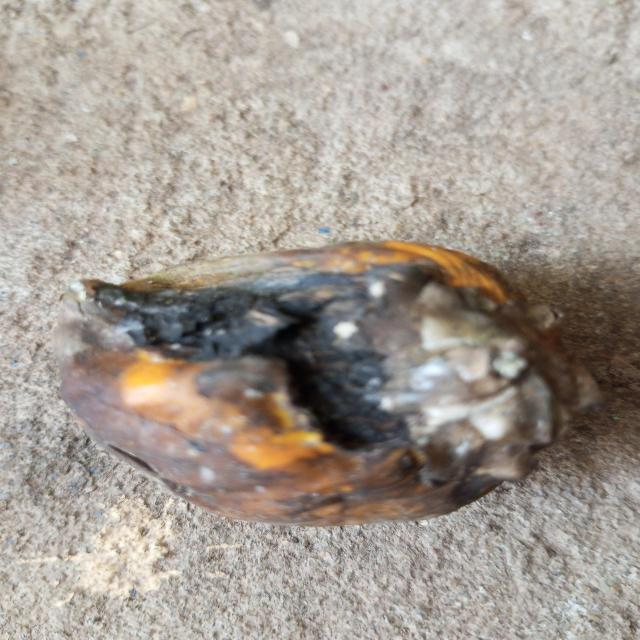damaged: (57, 240, 596, 530)
